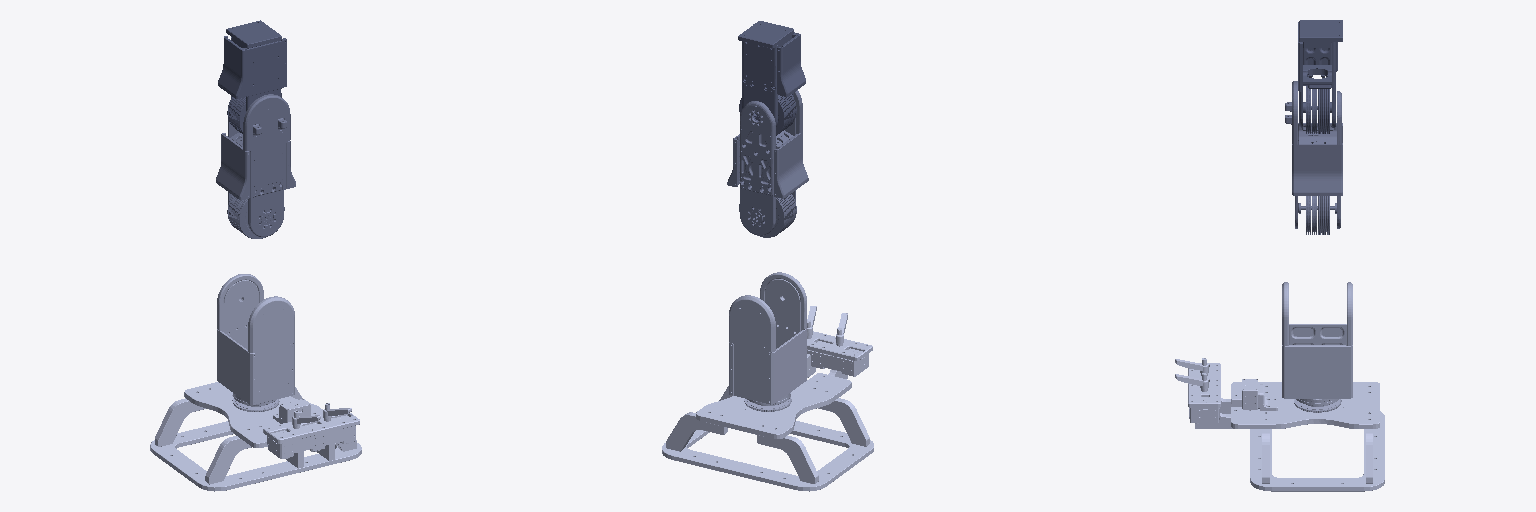
robot.urdf — pmi_description:
<?xml version="1.0" encoding="utf-8"?>
<!-- This URDF was automatically created by SolidWorks to URDF Exporter! Originally created by Stephen Brawner (brawner@gmail.com) 
     Commit Version: 1.6.0-4-g7f85cfe  Build Version: 1.6.7995.38578
     For more information, please see http://wiki.ros.org/sw_urdf_exporter -->
<robot
  name="pmi_description">
  <link
    name="base_link">
    <inertial>
      <origin
        xyz="-0.00082323 0.09644 -0.0063291"
        rpy="0 0 0" />
      <mass
        value="2.4727" />
      <inertia
        ixx="0.011422"
        ixy="1.6542E-06"
        ixz="1.3919E-06"
        iyy="0.012445"
        iyz="-5.9743E-05"
        izz="0.023105" />
    </inertial>
    <visual>
      <origin
        xyz="0 0 0"
        rpy="0 0 0" />
      <geometry>
        <mesh
          filename="package://pmi_description/meshes/base_link.STL" />
      </geometry>
      <material
        name="">
        <color
          rgba="0.79216 0.81961 0.93333 1" />
      </material>
    </visual>
    <collision>
      <origin
        xyz="0 0 0"
        rpy="0 0 0" />
      <geometry>
        <mesh
          filename="package://pmi_description/meshes/base_link.STL" />
      </geometry>
    </collision>
  </link>
  <link
    name="link1">
    <inertial>
      <origin
        xyz="0.0026336 -1.68446e-05 -0.111117"
        rpy="0 0 0" />
      <mass
        value="10.0123496865811" />
      <inertia
        ixx="8.29601614566715e-002"
        ixy="-3.28089653994623e-004"
        ixz="-1.19428008908532e-004"
        iyy="3.91199810914461e-002"
        iyz="2.09012210735718e-006"
        izz="6.49458588226152e-002" />
    </inertial>
    <visual>
      <origin
        xyz="0 0 0"
        rpy="0 0 0" />
      <geometry>
        <mesh
          filename="package://pmi_description/meshes/link1.STL" />
      </geometry>
      <material
        name="">
        <color
          rgba="0.69216 0.71961 0.83333 1" />
      </material>
    </visual>
    <collision>
      <origin
        xyz="0 0 0"
        rpy="0 0 0" />
      <geometry>
        <mesh
          filename="package://pmi_description/meshes/link1.STL" />
      </geometry>
    </collision>
  </link>
  <joint
    name="jnt1"
    type="revolute">
    <origin
      xyz="0 0 0"
      rpy="3.1416 0 0" />
    <parent
      link="base_link" />
    <child
      link="link1" />
    <axis
      xyz="0 0 1" />
    <limit
      lower="-3.1416"
      upper="3.1416"
      effort="10"
      velocity="100" />
  </joint>
  <link
    name="link2">
    <inertial>
      <origin
        xyz="6.90559e-05 -0.0851548 -0.00686211"
        rpy="0 0 0" />
      <mass
        value="10.4391437674567" />
      <inertia
        ixx="7.80970193464117e-002"
        ixy="3.53131298101708e-005"
        ixz="-8.81620777833472e-006"
        iyy="2.55871855807303e-002"
        iyz="5.47282289489732e-003"
        izz="7.45746466344453e-002" />
    </inertial>
    <visual>
      <origin
        xyz="0 0 0"
        rpy="0 0 0" />
      <geometry>
        <mesh
          filename="package://pmi_description/meshes/link2.STL" />
      </geometry>
      <material
        name="">
        <color
          rgba="0.59216 0.61961 0.73333 1" />
      </material>
    </visual>
    <collision>
      <origin
        xyz="0 0 0"
        rpy="0 0 0" />
      <geometry>
        <mesh
          filename="package://pmi_description/meshes/link2.STL" />
      </geometry>
    </collision>
  </link>
  <joint
    name="jnt2"
    type="revolute">
    <origin
      xyz="0 0 -0.22"
      rpy="1.5708 0 0" />
    <parent
      link="link1" />
    <child
      link="link2" />
    <axis
      xyz="0 0 1" />
    <limit
      lower="-1.5709"
      upper="1.5709"
      effort="10"
      velocity="100" />
  </joint>
  <link
    name="link3">
    <inertial>
      <origin
        xyz="0.0969069 -3.20036e-05 -0.00548574"
        rpy="0 0 0" />
      <mass
        value="10.3406497234359" />
      <inertia
        ixx="7.92872354716476e-002"
        ixy="8.26042768438978e-006"
        ixz="5.43833216931251e-006"
        iyy="2.27404242493157e-002"
        iyz="4.31986606376804e-003"
        izz="7.81409250910383e-002" />
    </inertial>
    <visual>
      <origin
        xyz="0 0 0"
        rpy="0 0 0" />
      <geometry>
        <mesh
          filename="package://pmi_description/meshes/link3.STL" />
      </geometry>
      <material
        name="">
        <color
          rgba="0.49216 0.51961 0.63333 1" />
      </material>
    </visual>
    <collision>
      <origin
        xyz="0 0 0"
        rpy="0 0 0" />
      <geometry>
        <mesh
          filename="package://pmi_description/meshes/link3.STL" />
      </geometry>
    </collision>
  </link>
  <joint
    name="jnt3"
    type="revolute">
    <origin
      xyz="0 -0.23 0"
      rpy="0 0 -1.5708" />
    <parent
      link="link2" />
    <child
      link="link3" />
    <axis
      xyz="0 0 1" />
    <limit
      lower="-1.5709"
      upper="1.5709"
      effort="10"
      velocity="100" />
  </joint>
  <link
    name="link4">
    <inertial>
      <origin
        xyz="0.0675884 0.00443192 0.000679202"
        rpy="0 0 0" />
      <mass
        value="7.01416597186014" />
      <inertia
        ixx="3.93493190184971e-002"
        ixy="-9.26169916890393e-004"
        ixz="-8.43406506016272e-006"
        iyy="1.11764686166838e-002"
        iyz="2.04330936352529e-004"
        izz="4.10218257620852e-002" />
    </inertial>
    <visual>
      <origin
        xyz="0 0 0"
        rpy="0 0 0" />
      <geometry>
        <mesh
          filename="package://pmi_description/meshes/link4.STL" />
      </geometry>
      <material
        name="">
        <color
          rgba="0.39216 0.41961 0.53333 1" />
      </material>
    </visual>
    <collision>
      <origin
        xyz="0 0 0"
        rpy="0 0 0" />
      <geometry>
        <mesh
          filename="package://pmi_description/meshes/link4.STL" />
      </geometry>
    </collision>
  </link>
  <joint
    name="jnt4"
    type="revolute">
    <origin
      xyz="0.23 0 0"
      rpy="-3.1416 0 0" />
    <parent
      link="link3" />
    <child
      link="link4" />
    <axis
      xyz="0 0 1" />
    <limit
      lower="-1.5709"
      upper="1.5709"
      effort="10"
      velocity="100" />
  </joint>
</robot>

--- What the picture shows (computed from the rendered views, not written in the file) ---
3 views of the same robot in one strip: view 1: azimuth 30°, elevation 25°; view 2: azimuth 150°, elevation 25°; view 3: azimuth 270°, elevation 25° (orthographic).
Robot: pmi_description — 5 links, 4 joints (4 revolute); root link base_link; default pose: all joints at 0.
Links seen in each view (by area): view 1: base_link, link1, link3, link4; view 2: base_link, link1, link3, link4; view 3: base_link, link1, link3, link4.
Boxes of the visible links, x1,y1,x2,y2 form: base_link: (150, 382, 361, 491); link1: (217, 274, 294, 411); link3: (216, 94, 295, 238); link4: (218, 20, 286, 133); base_link: (662, 306, 873, 491); link1: (729, 272, 806, 411); link3: (727, 90, 808, 237); link4: (738, 21, 805, 135); base_link: (1175, 358, 1384, 491); link1: (1282, 282, 1352, 412); link3: (1285, 81, 1342, 234); link4: (1298, 20, 1342, 133).
Bounding box of the posed robot: 0.39 × 0.4364 × 0.967 m (x, y, z).
Meshes: 5 distinct files referenced, 4 mesh visuals loaded (4 binary STL); not drawn: 1 (reference not matched to a file when rendering).
